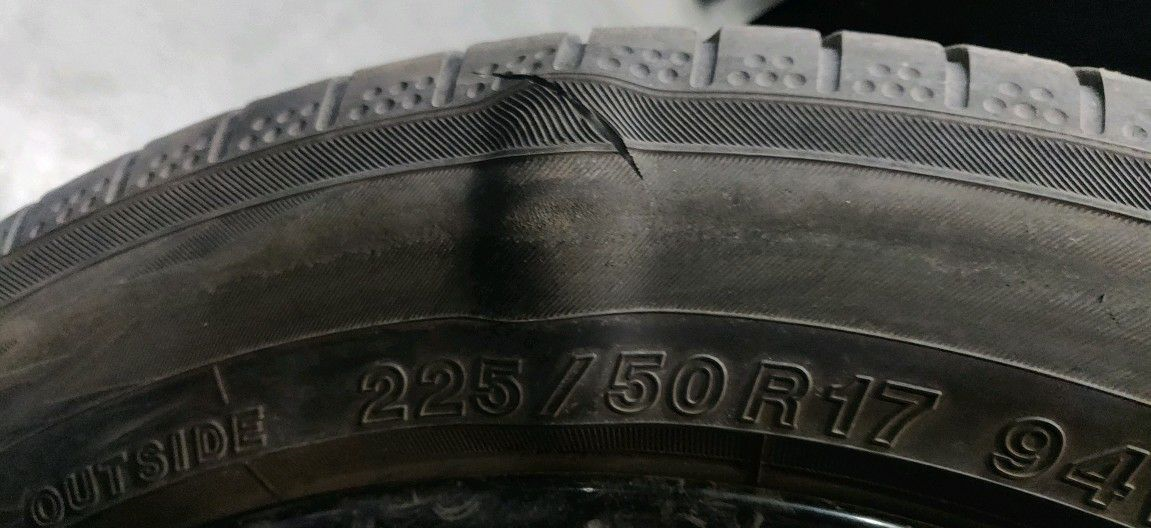CBU: (461, 72, 656, 351)
cut: (499, 70, 645, 184)
